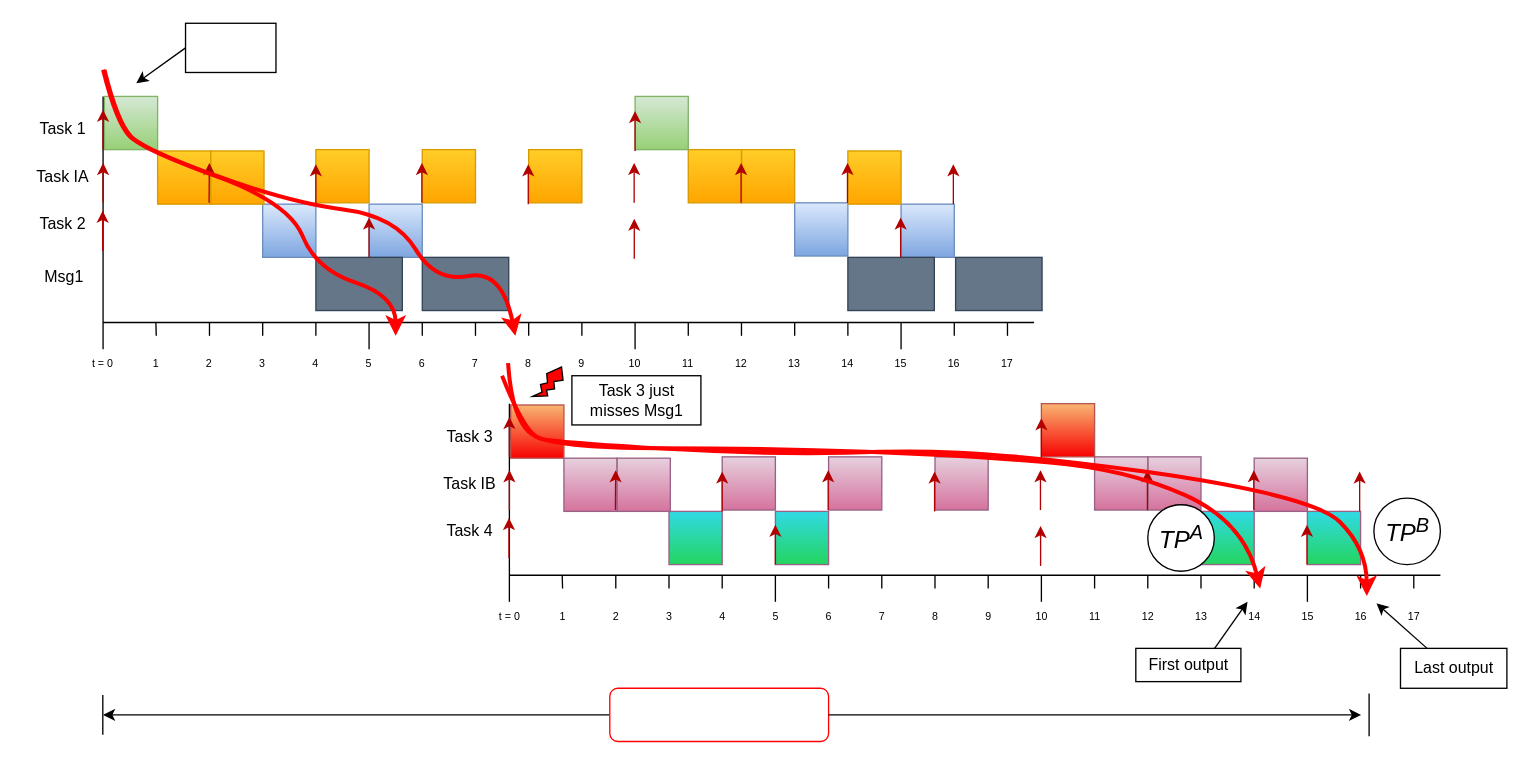
The diagram is 1530 pixels wide and 765 high, and some of its shapes have lost their labels. Here are the shapes that lost their labels. From the top down, the centre of each, then its label:
At pixel 230 47: "Msg1 arrives here".
At pixel 718 714: "Age Delay".
